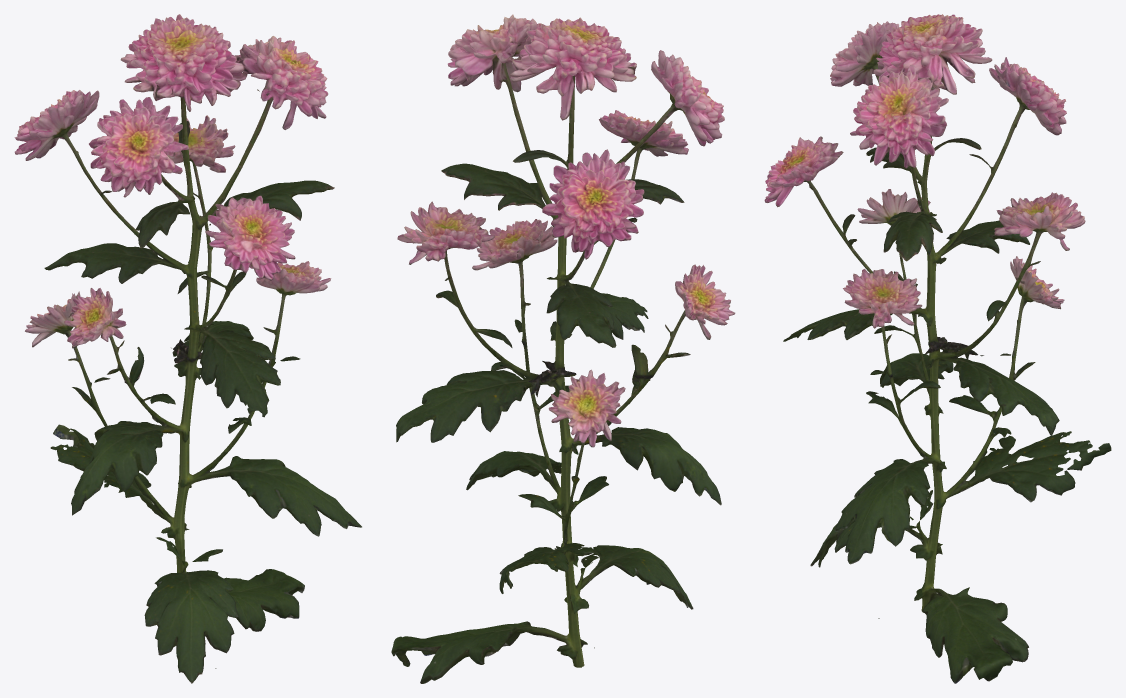
File: bundle_of_pink_chrysanthemums.glb
The picture shows the model from 3 angles, left to right: view 1: azimuth 30°, elevation 25°; view 2: azimuth 150°, elevation 25°; view 3: azimuth 270°, elevation 25°; orthographic projection. The views are drawn at different scales.
Visible parts, largest first — view 1: Model; view 2: Model; view 3: Model.
Boxes of the visible parts, box(x1,y1,x2,y2) form: Model: box(14, 14, 361, 683); Model: box(391, 14, 735, 683); Model: box(764, 14, 1111, 683).
Bounding box in the file's own units: 0.2008 × 0.4366 × 0.2263.
Materials: 1 (1 with a texture image).
